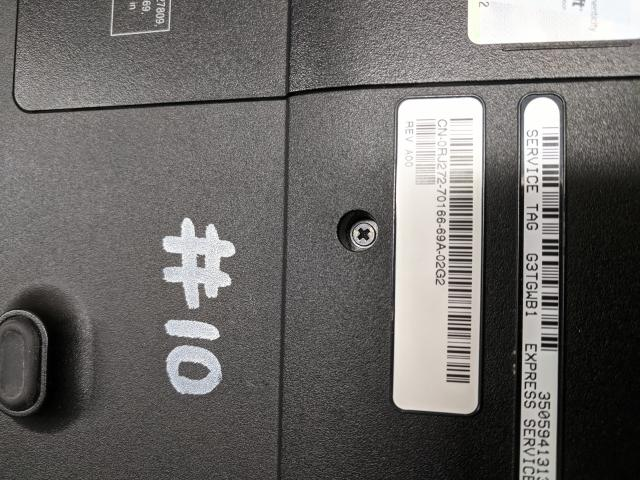CRS: (352, 222, 377, 248)
